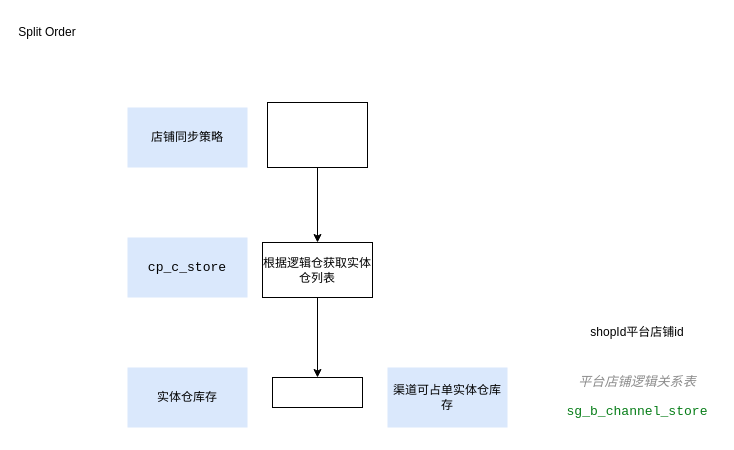
Image size: 734x450. Some labels were removed from this diagram. The shapes that lost their labels are listed below. From the top down, each one's box as (x1, y1, x2, y2) in pixels, then its label:
(266, 102, 368, 168): 获取该店铺下所有逻辑仓配置
(272, 376, 362, 408): 比较得出最小可用库存
